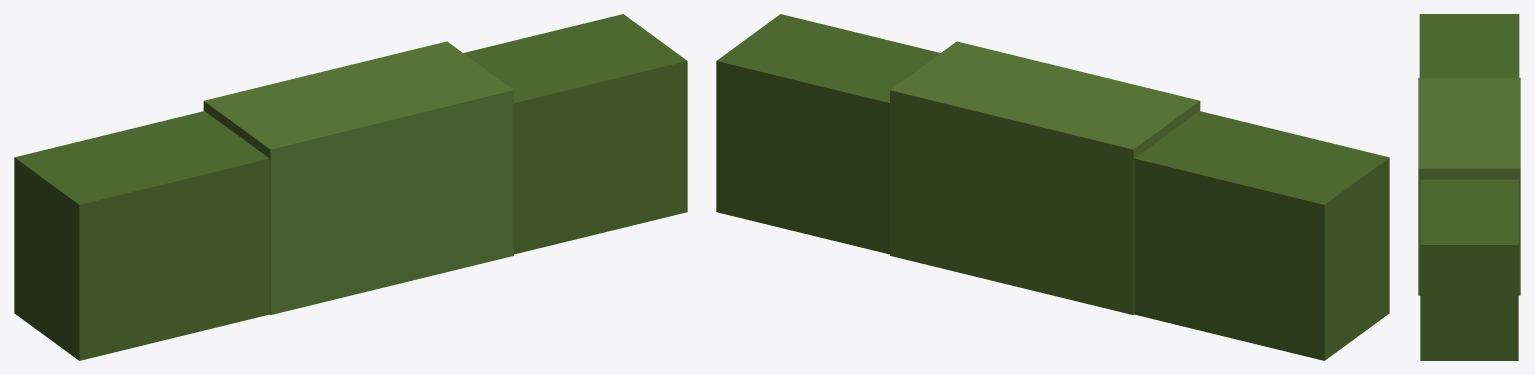
Rendered from hedge_far.glb.
3 renders of one model, left to right at view 1: azimuth 30°, elevation 25°; view 2: azimuth 150°, elevation 25°; view 3: azimuth 270°, elevation 25°, orthographic. The views are drawn at different scales.
Parts seen in each view (by area): view 1: hedge_far; view 2: hedge_far; view 3: hedge_far.
Boxes of the visible parts, <box> form: hedge_far: <box>14,14,687,360</box>; hedge_far: <box>716,14,1389,360</box>; hedge_far: <box>1418,14,1520,360</box>.
Bounding box in the file's own units: 4 × 1.04 × 0.76.
